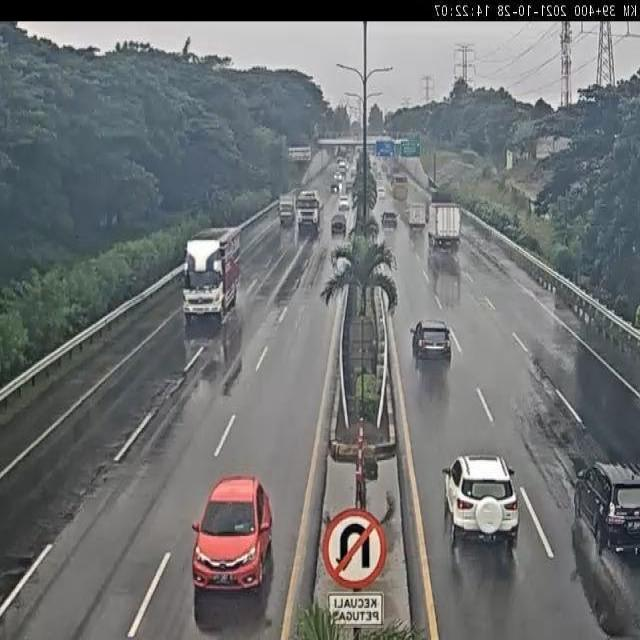Bus: (386, 170, 415, 205)
Car: (184, 477, 276, 608), (442, 441, 525, 568), (567, 446, 639, 574), (403, 302, 461, 384)
Truck: (175, 200, 252, 344), (429, 196, 465, 254), (406, 194, 432, 234)
